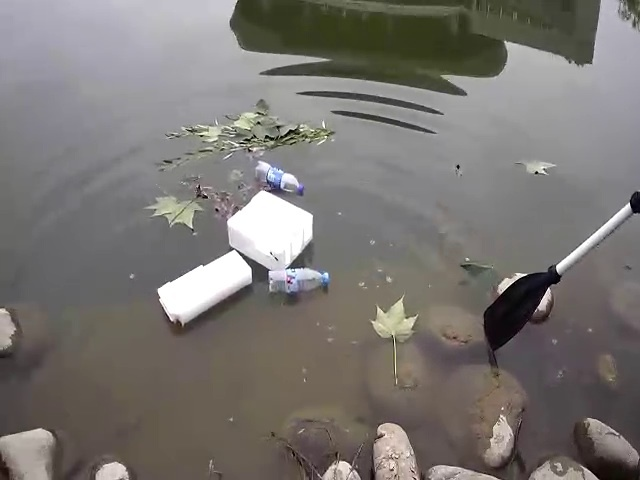bottle: (248, 149, 310, 200), (263, 266, 337, 294)
leaf: (181, 96, 334, 160), (142, 188, 207, 233), (369, 296, 420, 342), (515, 155, 559, 181)
paomo: (226, 185, 320, 267), (154, 253, 254, 319)
